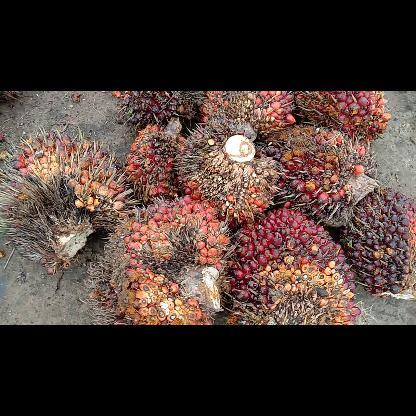TBS masak: (2, 132, 132, 270), (89, 196, 223, 324), (226, 207, 362, 324), (256, 126, 374, 226), (177, 125, 279, 227), (340, 190, 414, 302), (124, 116, 186, 200), (200, 92, 296, 142), (296, 93, 390, 142), (112, 92, 204, 134)
